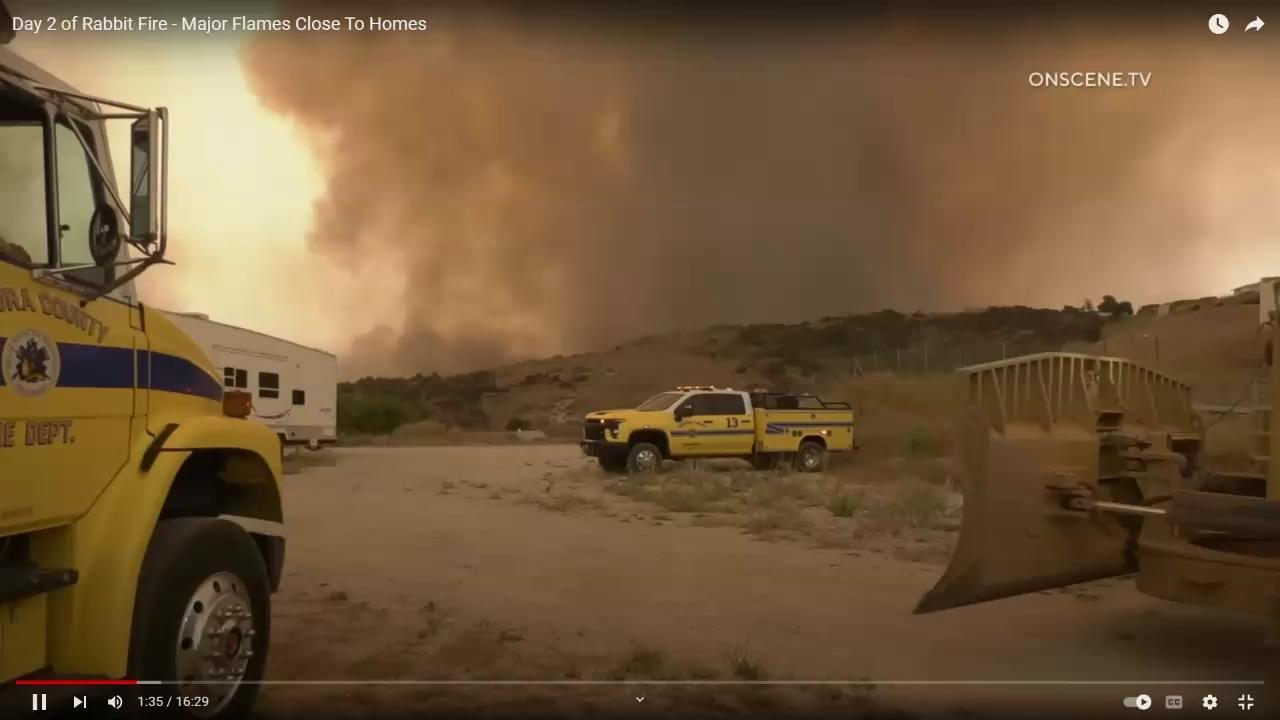smoke: (227, 0, 1280, 384)
